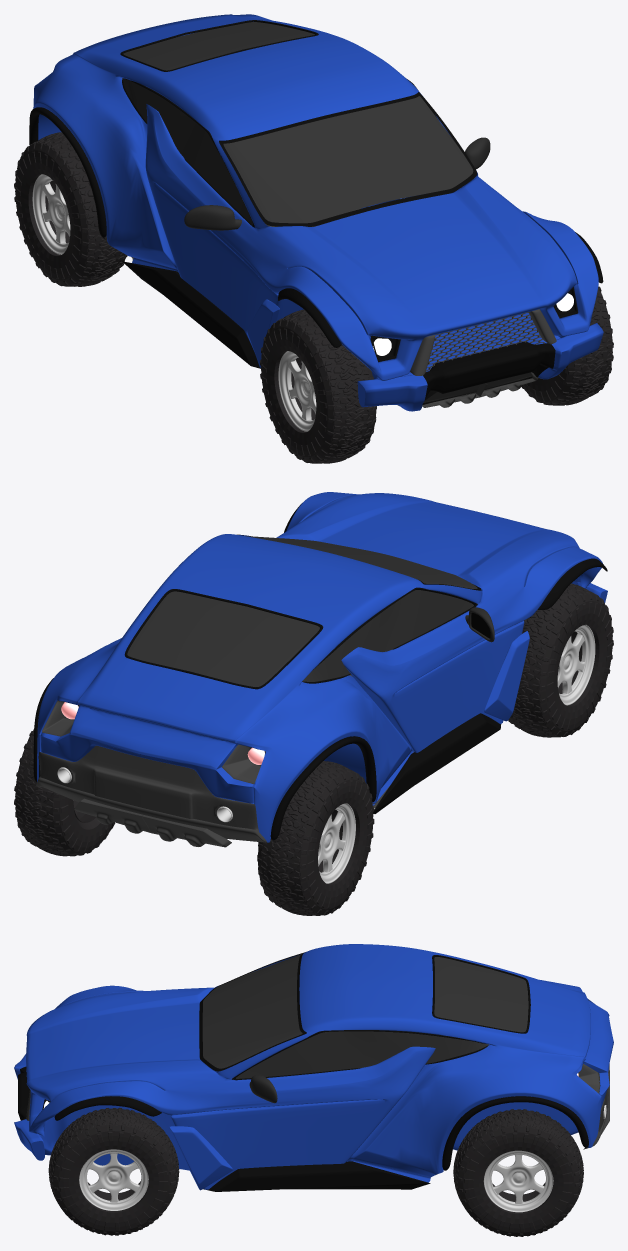
File: racerCar.glb
3 renders of one model, top to bottom at view 1: azimuth 30°, elevation 25°; view 2: azimuth 150°, elevation 25°; view 3: azimuth 270°, elevation 25°, orthographic. The views are drawn at different scales.
Parts seen in each view (by area): view 1: car body, Wheel front right, Wheel rear right, Wheel Front left, Circle.006, Circle.008, Circle.007, Circle.009; view 2: car body, Wheel rear right, Wheel front right, Wheel rear left, Circle.006, Circle.008, Circle.007, Circle.009; view 3: car body, Wheel rear left, Wheel Front left, Circle.002, Circle.004, Circle.003, Circle.005.
Boxes of the visible parts, box(x1,y1,x2,y2) form: car body: box(29, 14, 603, 411); Wheel front right: box(260, 309, 376, 463); Wheel rear right: box(14, 132, 127, 286); Wheel Front left: box(521, 286, 613, 405); Circle.006: box(278, 351, 314, 431); Circle.008: box(32, 174, 69, 254); Circle.007: box(288, 360, 316, 420); Circle.009: box(42, 183, 70, 243); car body: box(33, 492, 607, 847); Wheel rear right: box(257, 761, 374, 915); Wheel front right: box(508, 583, 613, 737); Wheel rear left: box(14, 728, 115, 856); Circle.006: box(559, 625, 595, 705); Circle.008: box(319, 803, 355, 883); Circle.007: box(557, 633, 584, 693); Circle.009: box(318, 812, 345, 872); car body: box(14, 944, 613, 1191); Wheel rear left: box(453, 1109, 583, 1236); Wheel Front left: box(48, 1108, 179, 1235); Circle.002: box(79, 1149, 148, 1210); Circle.004: box(483, 1150, 553, 1212); Circle.003: box(89, 1153, 139, 1202); Circle.005: box(493, 1154, 544, 1203).
Size of the model in its own units: 3.32 by 2.54 by 6.78.
